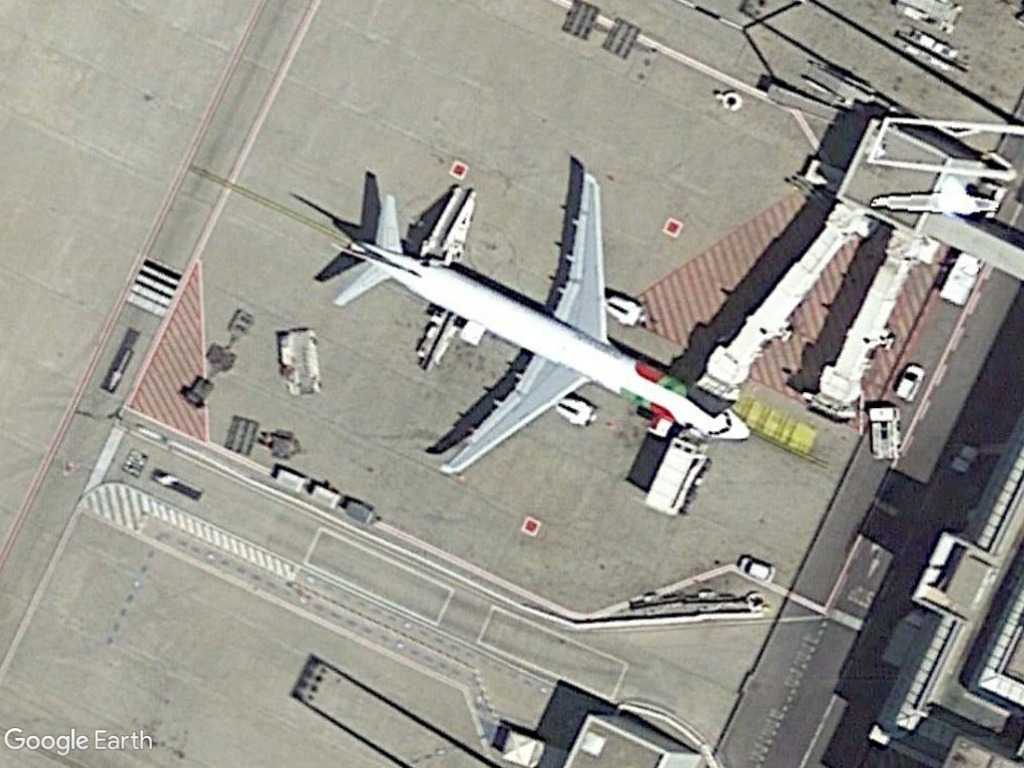airliner: (331, 166, 753, 480)
car: (735, 552, 780, 585)
other: (864, 401, 903, 463)
pushbacktruck: (273, 322, 325, 400)
stairtruck: (416, 180, 479, 266)
van: (891, 360, 928, 404)
